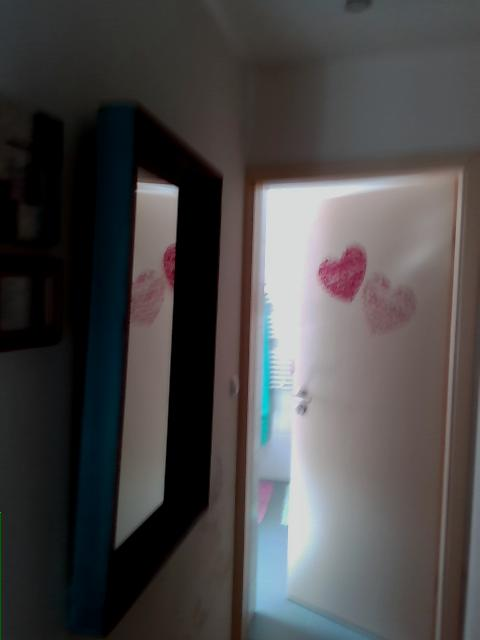semi_door: (229, 154, 479, 639)
